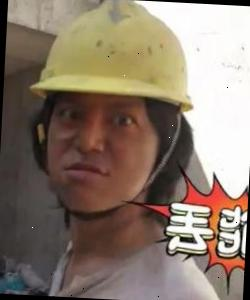helmet: (23, 0, 200, 117)
